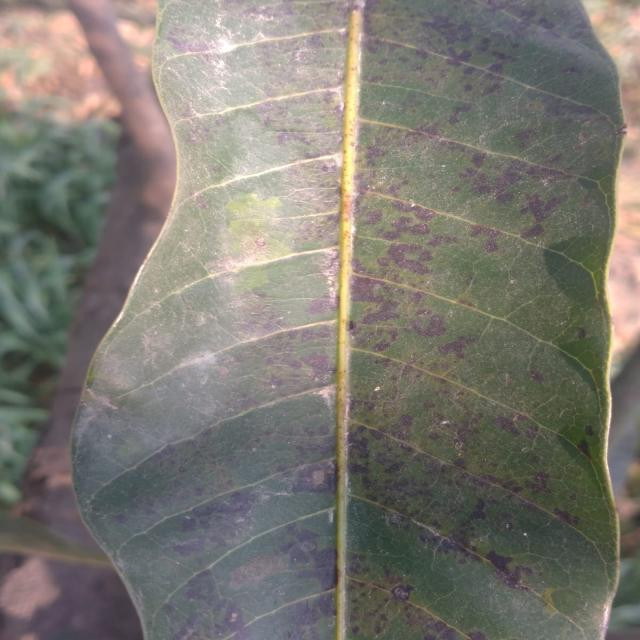black die: (455, 141, 528, 207), (223, 545, 288, 600), (478, 546, 538, 596), (420, 3, 476, 52), (518, 178, 567, 229), (384, 235, 438, 277), (358, 275, 400, 324), (291, 594, 334, 639), (380, 243, 434, 277), (191, 491, 256, 519), (292, 461, 336, 493), (300, 344, 338, 381), (391, 195, 436, 224), (437, 330, 477, 361), (410, 308, 448, 339), (381, 217, 430, 240), (305, 291, 341, 320), (171, 535, 210, 561), (469, 224, 501, 253), (445, 97, 475, 127), (359, 142, 387, 170), (492, 413, 523, 437), (552, 506, 581, 527), (525, 472, 550, 493), (519, 223, 544, 243), (427, 232, 458, 248), (576, 438, 597, 460), (277, 132, 309, 146), (469, 149, 487, 169), (391, 585, 413, 600), (363, 210, 383, 226), (527, 368, 546, 384), (470, 500, 486, 519), (614, 124, 631, 139), (373, 340, 391, 353), (469, 631, 486, 639), (584, 425, 594, 437), (578, 327, 588, 339), (348, 320, 357, 333)
